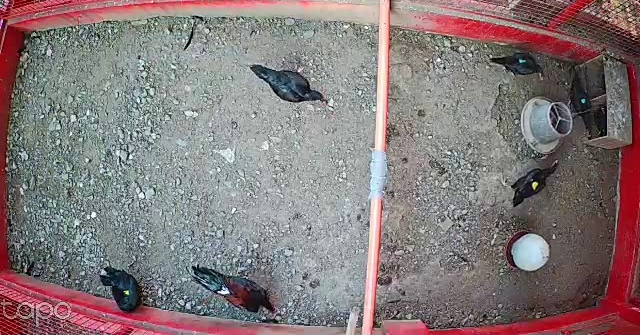Chicken: (246, 59, 330, 113), (495, 154, 562, 210), (560, 58, 598, 136), (101, 258, 143, 317), (487, 49, 545, 84)
Rooster: (184, 260, 276, 318)
Saddle_Color_Blue: (580, 98, 587, 104)
Saddle_Color_Yellow: (531, 180, 540, 191), (124, 290, 132, 298)
